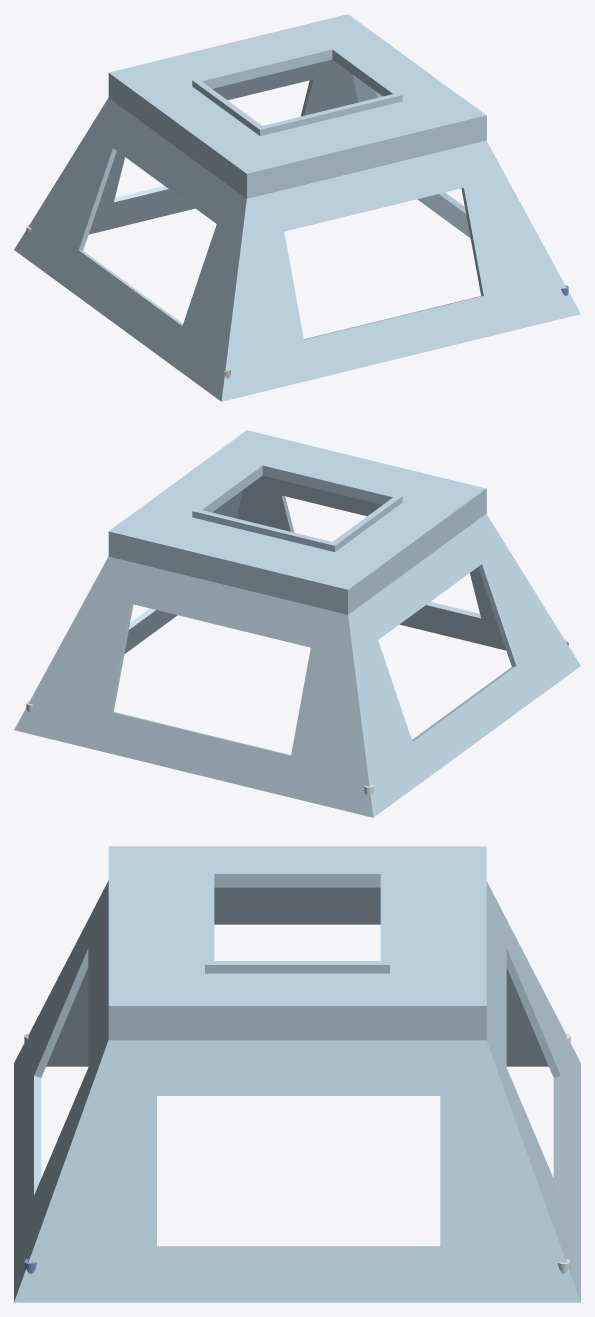
The picture shows the model from 3 angles, top to bottom: view 1: azimuth 30°, elevation 25°; view 2: azimuth 150°, elevation 25°; view 3: azimuth 270°, elevation 25°; orthographic projection. The views are drawn at different scales.
Parts seen in each view (by area): view 1: Part 1; view 2: Part 1; view 3: Part 1.
Boxes of the visible parts, x1,y1,x2,y2 form: Part 1: [14, 14, 580, 401]; Part 1: [14, 430, 580, 817]; Part 1: [14, 846, 580, 1302].
Bounding box in the file's own units: 0.3 × 0.155 × 0.3.
